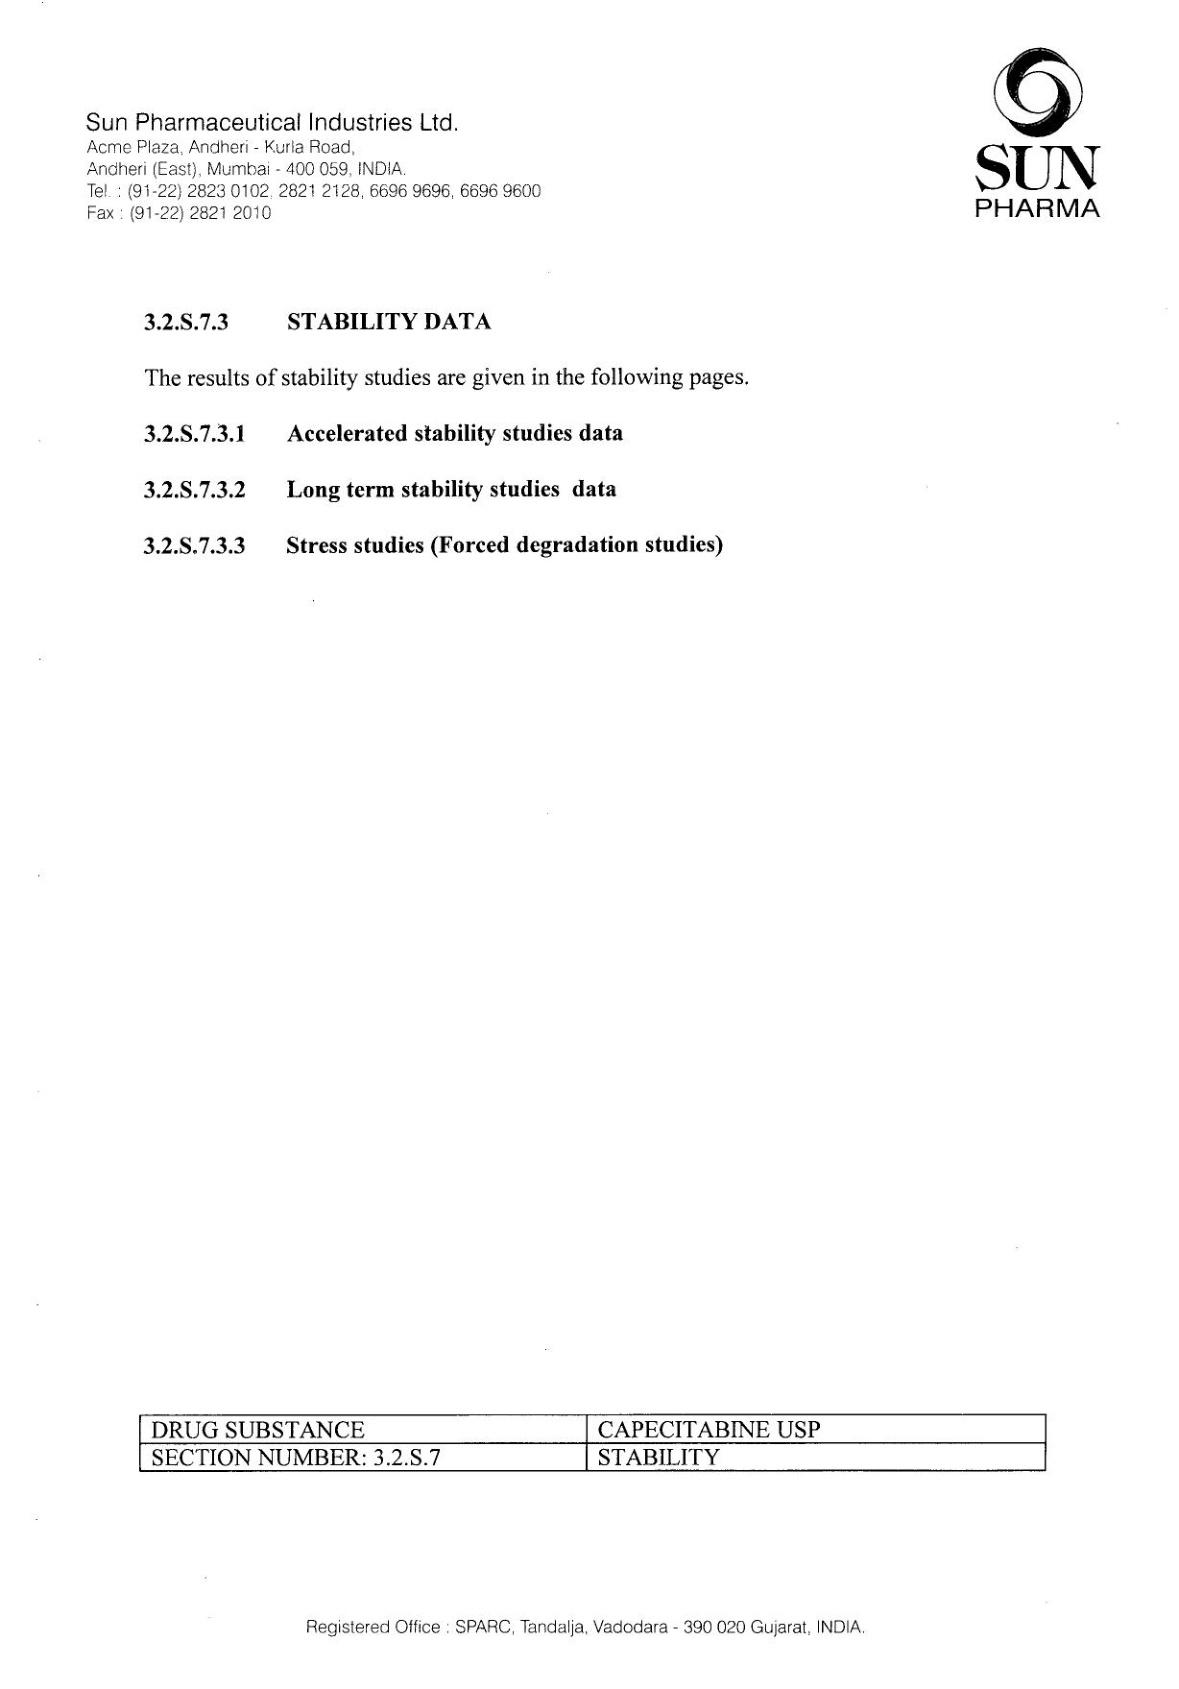full_lined: (139, 1412, 1047, 1473)
nolines: (139, 418, 727, 560)
